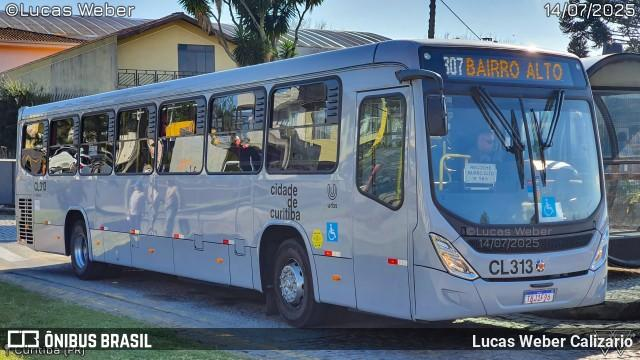BAIRRO ALTO: (464, 55, 564, 83)
